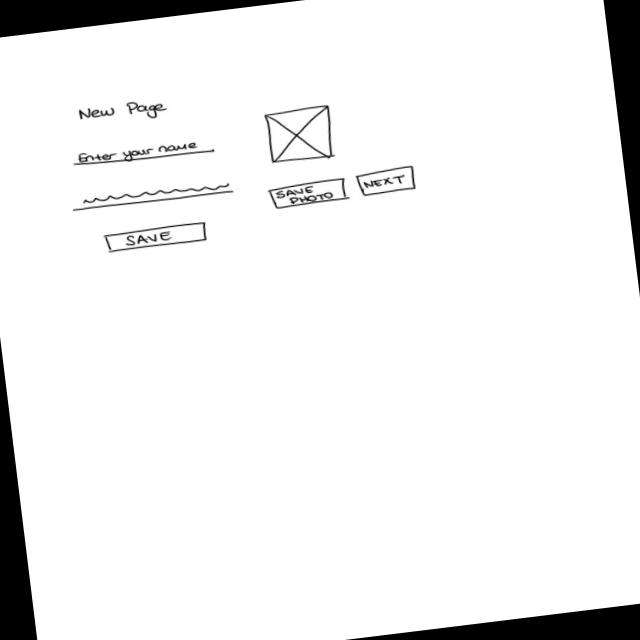button: (103, 221, 210, 255), (268, 177, 350, 212), (356, 166, 418, 200)
image: (262, 104, 337, 167)
input: (70, 178, 237, 213), (71, 136, 217, 171)
label: (75, 97, 170, 130)
